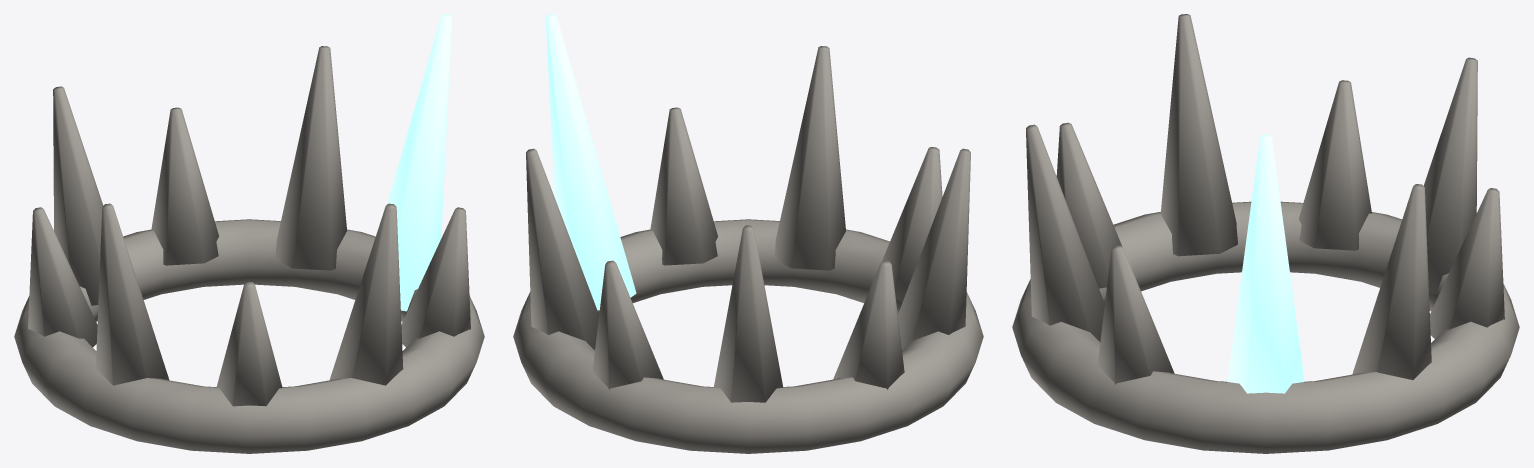
Rendered from SM_Head_BoneCrown.fbx.
The picture shows the model from 3 angles, left to right: view 1: azimuth 30°, elevation 25°; view 2: azimuth 150°, elevation 25°; view 3: azimuth 270°, elevation 25°; orthographic projection. The views are drawn at different scales.
Parts seen in each view (by area): view 1: Torus; view 2: Torus; view 3: Torus.
Boxes of the visible parts, box(x1,y1,x2,y2) form: Torus: box(14, 14, 484, 453); Torus: box(513, 14, 983, 453); Torus: box(1012, 14, 1519, 453).
Bounding box in the file's own units: 0.34 × 0.34 × 0.2428.
